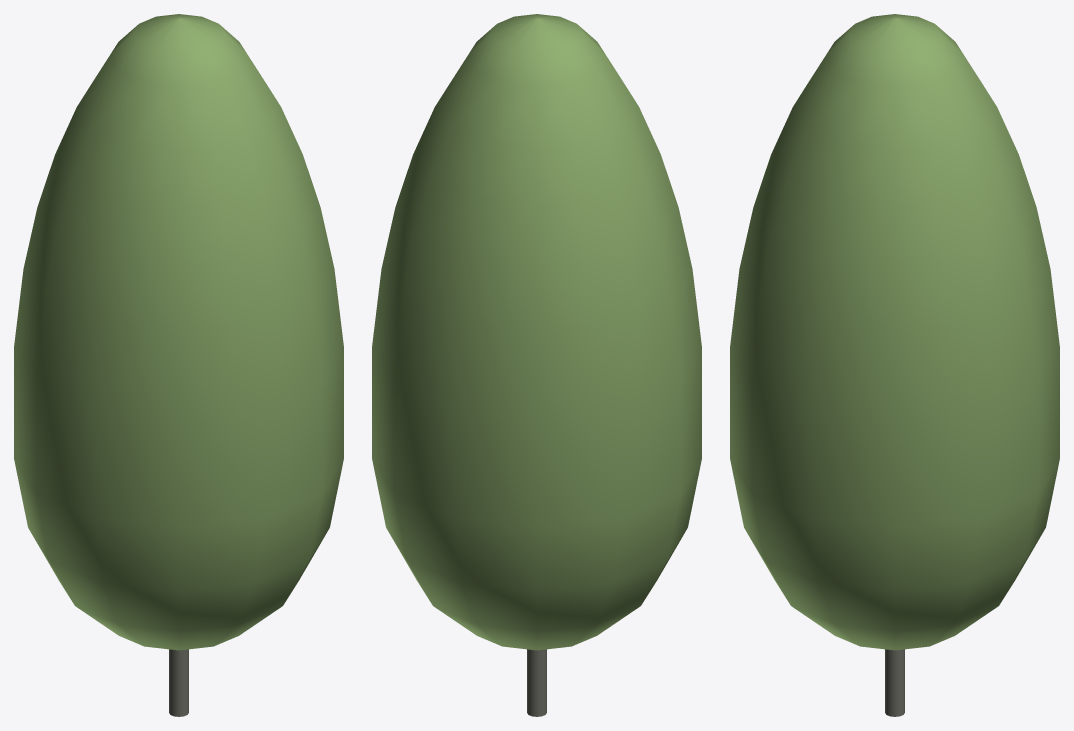
Rendered from White_Ash_Analytical_0.obj.
3 renders of one model, left to right at view 1: azimuth 30°, elevation 25°; view 2: azimuth 150°, elevation 25°; view 3: azimuth 270°, elevation 25°, orthographic.
Visible parts, largest first — view 1: AnalyticalCrown, AnalyticalTrunk; view 2: AnalyticalCrown, AnalyticalTrunk; view 3: AnalyticalCrown, AnalyticalTrunk.
Part boxes in pixels (x1,y1,x2,y2): AnalyticalCrown: [14, 14, 343, 650]; AnalyticalTrunk: [169, 649, 188, 716]; AnalyticalCrown: [372, 14, 701, 650]; AnalyticalTrunk: [527, 649, 546, 716]; AnalyticalCrown: [730, 14, 1059, 650]; AnalyticalTrunk: [885, 649, 904, 716].
Size of the model in its own units: 5.6 by 13 by 5.6.
